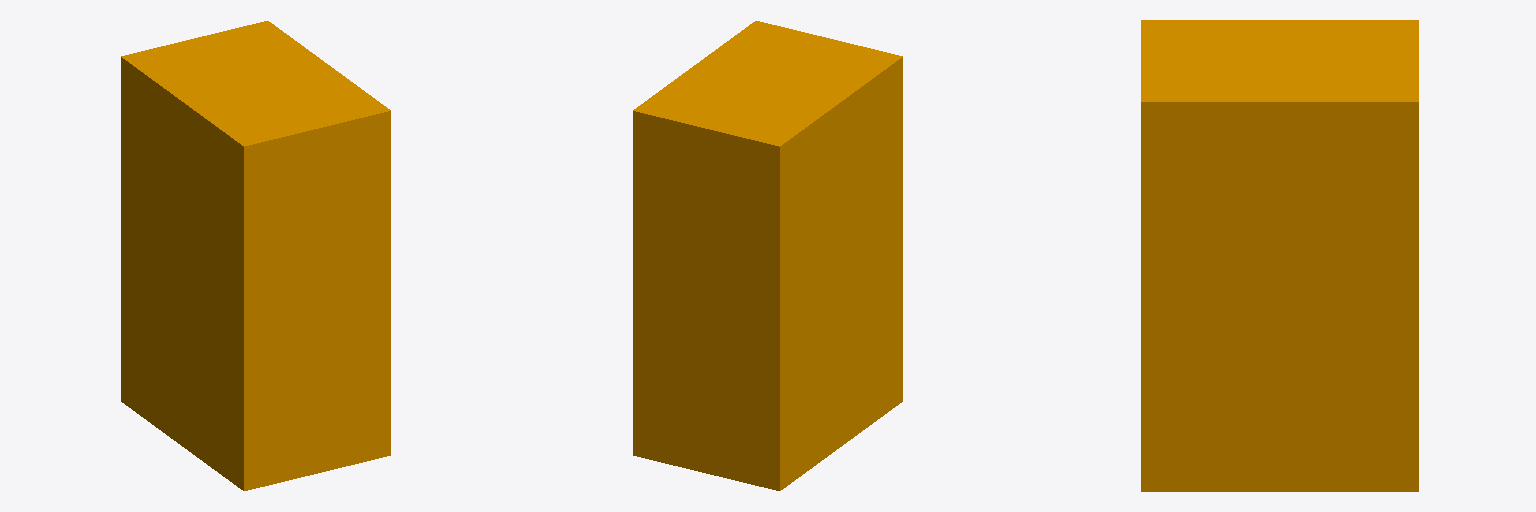
robot.urdf — box_1:
<robot name="box_1">
        <link name="base">
            <inertial>
                <mass value="0.2"/>
                <inertia ixx="0.0001" ixy="0" ixz="0" iyy="0.0001" iyz="0" izz="0.0001"/>
            </inertial>
            <visual>
                <geometry><mesh filename="box_1.obj" scale="1 1 1"/></geometry>
            </visual>
            <collision>
                <geometry><box size="0.0313715581413041 0.04543748770259014 0.07011096914593071"/></geometry>
            </collision>
        </link></robot>

--- Facts derived from the render (not from the file) ---
Views: 3 orthographic renders of the robot side by side, from view 1: azimuth 30°, elevation 25°; view 2: azimuth 150°, elevation 25°; view 3: azimuth 270°, elevation 25°.
Robot: box_1 — 1 links, 0 joints (none); root link base; default pose: all joints at 0.
Links seen in each view (by area): view 1: base; view 2: base; view 3: base.
Boxes of the visible links, x1,y1,x2,y2 form: base: (121, 21, 390, 490); base: (633, 21, 902, 490); base: (1141, 20, 1418, 491).
Size in the robot's own frame: 0.0314 by 0.0454 by 0.0701 metres.
Meshes: 1 distinct files referenced, 1 mesh visuals loaded (1 OBJ).
